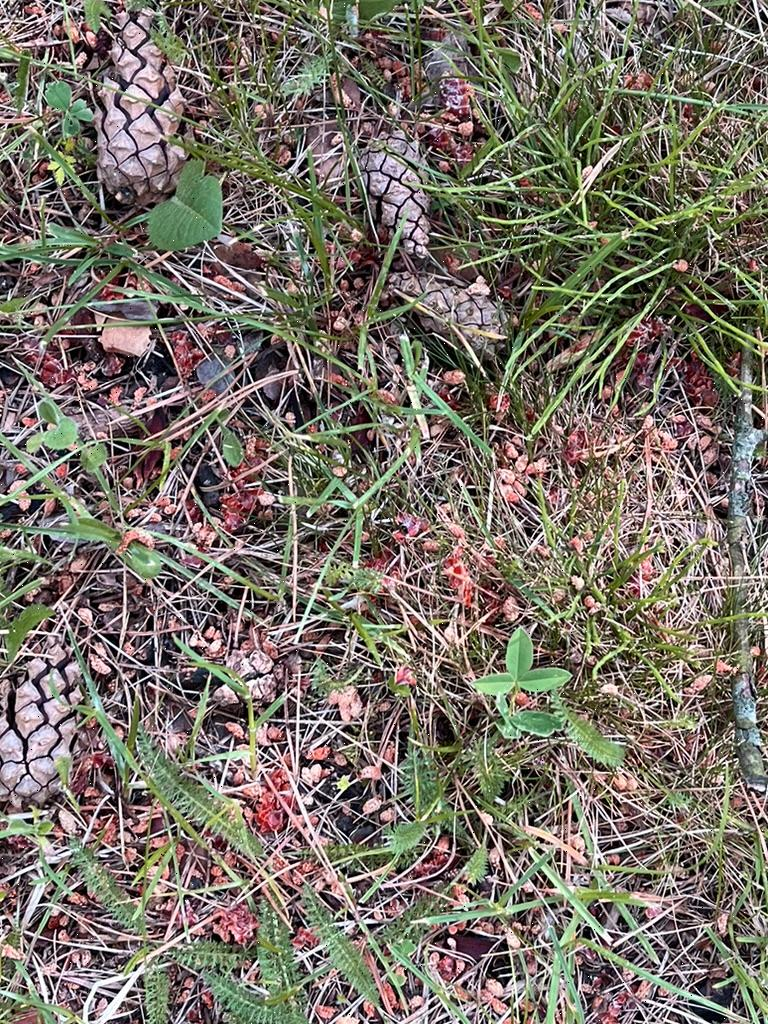pine: (89, 6, 206, 200), (0, 635, 106, 828), (354, 266, 538, 360), (351, 128, 466, 263)
